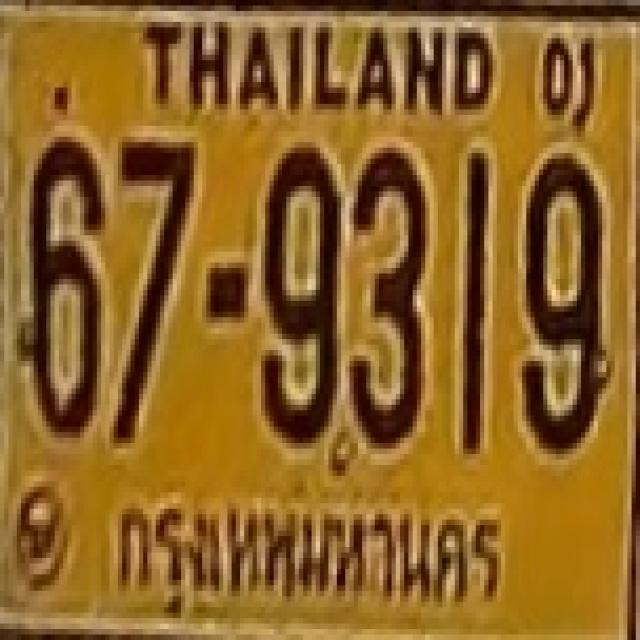1: (461, 150, 486, 402)
3: (348, 142, 423, 443)
6: (21, 137, 101, 432)
7: (118, 137, 194, 350), (118, 137, 194, 328), (118, 134, 194, 304)
9: (518, 153, 598, 449), (257, 145, 337, 440), (259, 170, 335, 438)
BKK: (95, 474, 512, 628)
